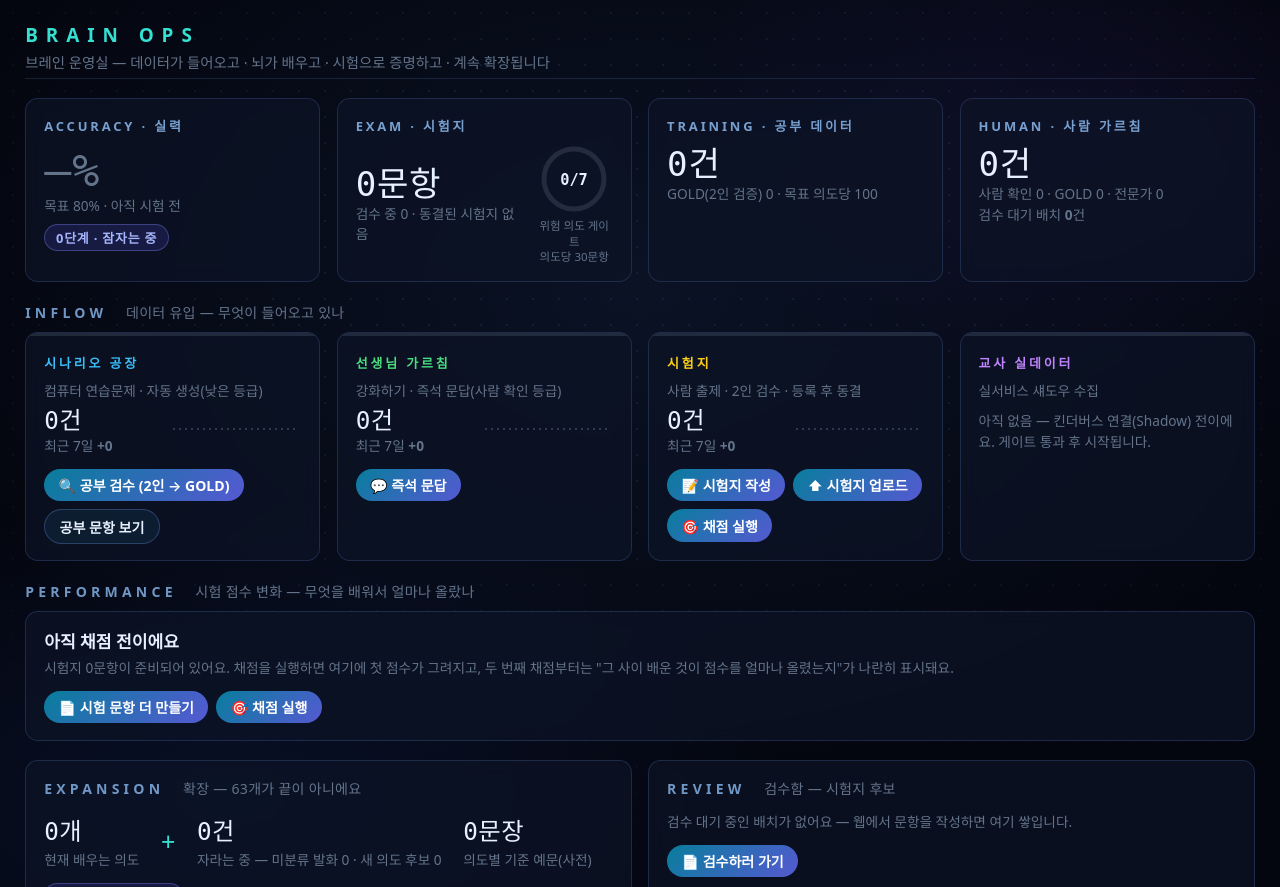
it: 채점 실행 버튼 — PIN 게이트 (대시보드·검수 모달 공용 진입점) › 클릭 → 비밀번호 입력 → 확인 시 PIN이 서버로 간다 (검증은 서버가)
Click the button "🎯 채점 실행" below "사람 출제 · 2인 검수 · 등록 후 동결" at (720, 526), box [667,510,772,542]
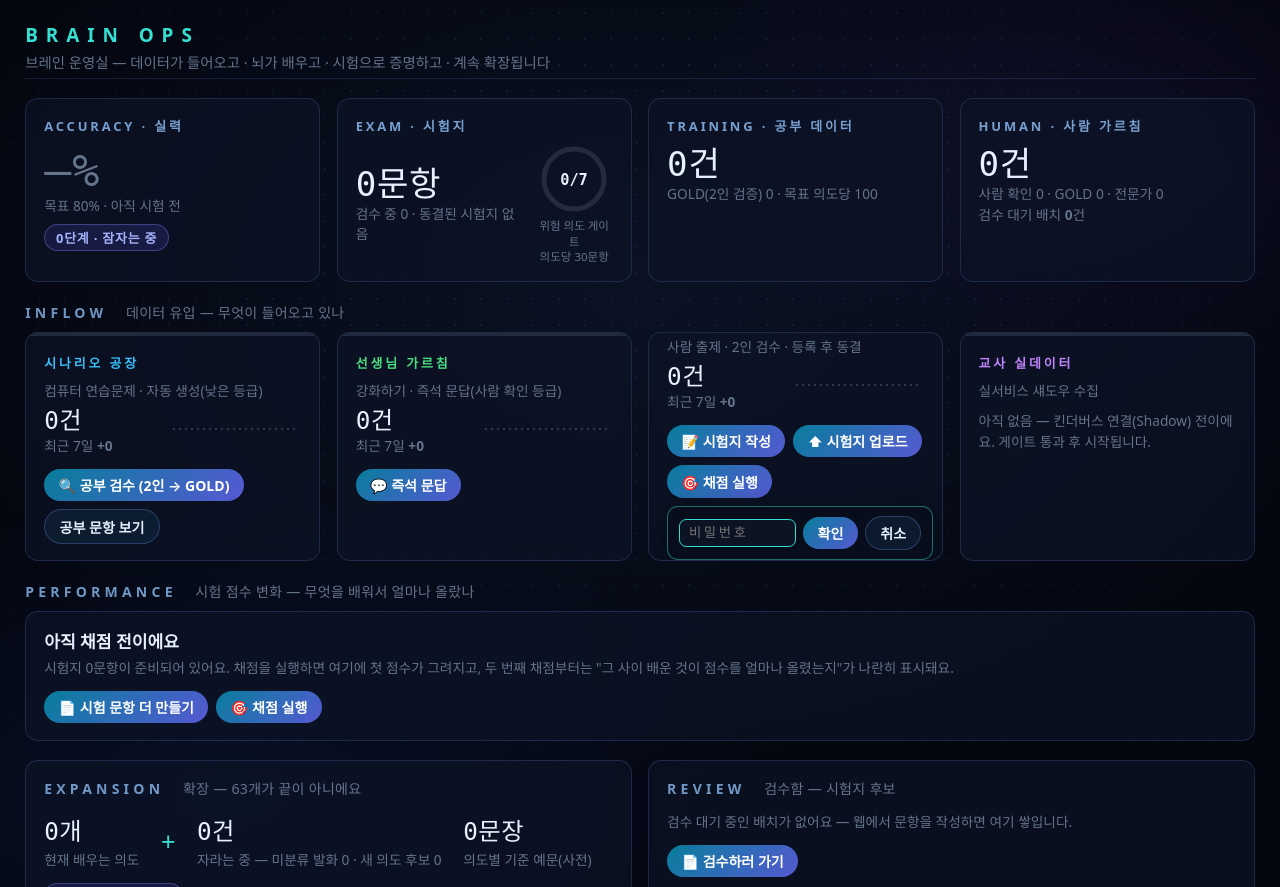
Type "2341" into the password field named "채점 비밀번호" at (737, 533), box [679,519,796,547]
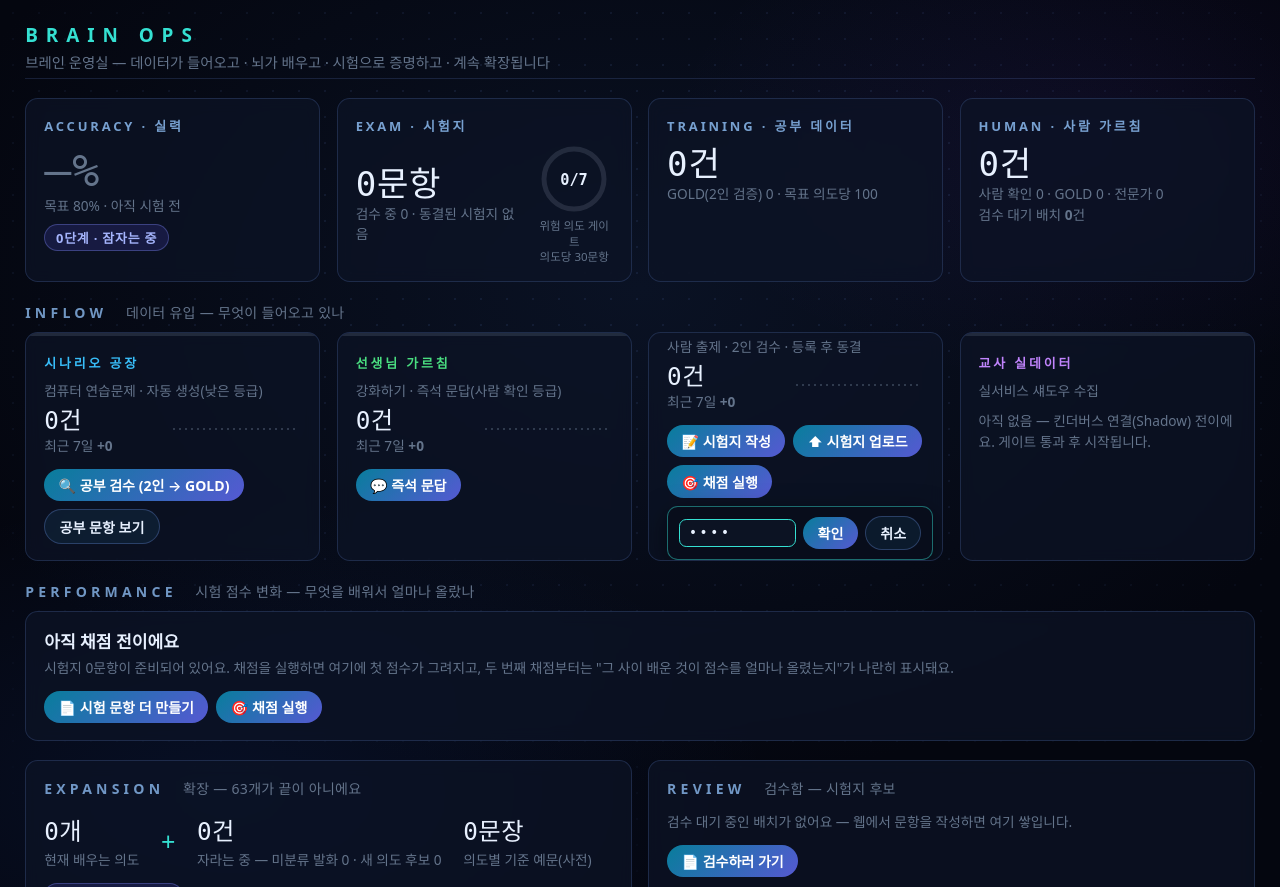
Click the button "확인" at (830, 533), box [803,517,858,549]
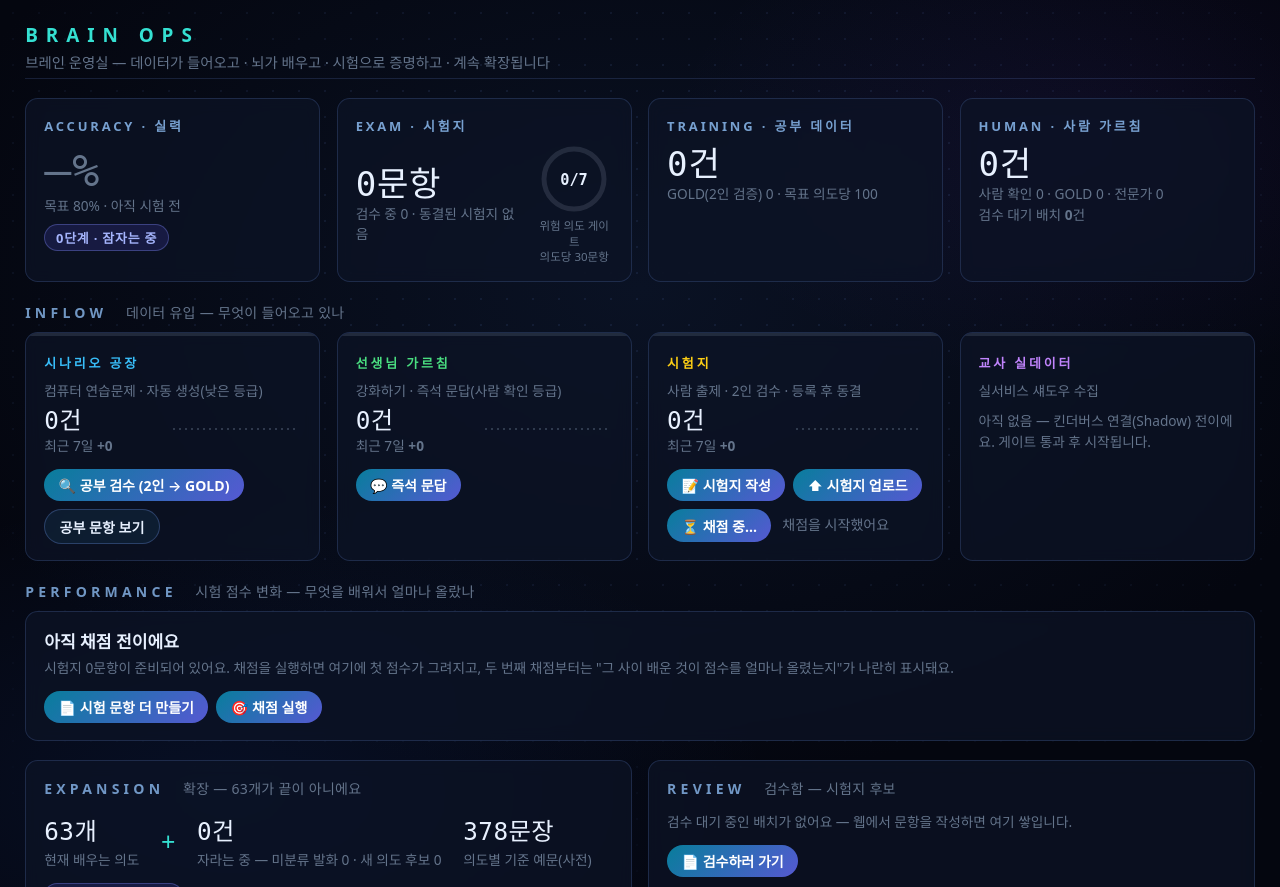
Now the text "채점을 시작했어요" is shown, box [782,516,889,535]
